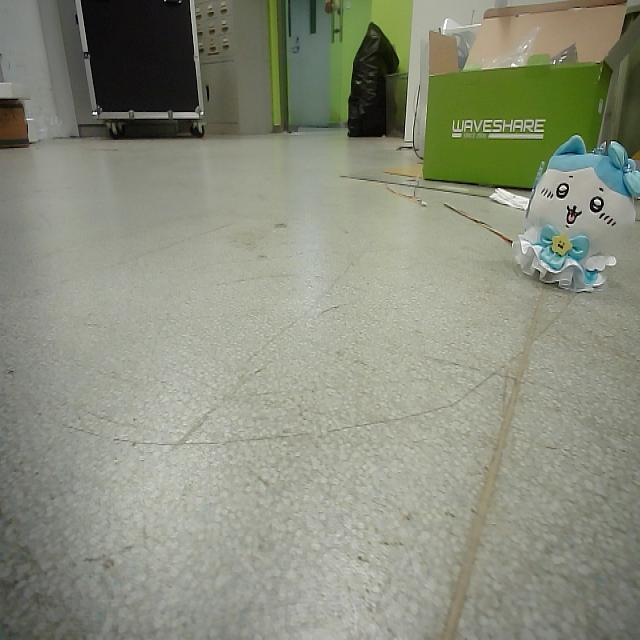xiaoba: (508, 123, 640, 292)
